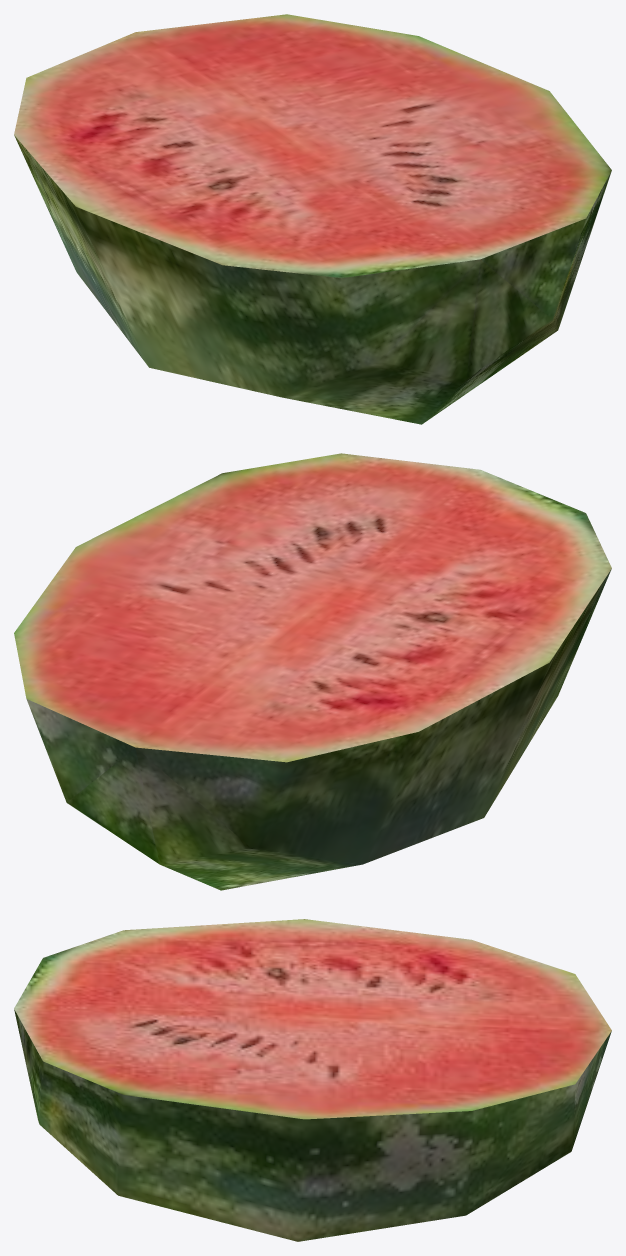
3 renders of one model, top to bottom at view 1: azimuth 30°, elevation 25°; view 2: azimuth 150°, elevation 25°; view 3: azimuth 270°, elevation 25°, orthographic. The views are drawn at different scales.
Visible parts, largest first — view 1: Watermelon_01002_Foods_0; view 2: Watermelon_01002_Foods_0; view 3: Watermelon_01002_Foods_0.
Part boxes in pixels (bbox=[...]): Watermelon_01002_Foods_0: bbox=[14, 14, 611, 424]; Watermelon_01002_Foods_0: bbox=[14, 453, 611, 890]; Watermelon_01002_Foods_0: bbox=[14, 919, 611, 1241].
Size of the model in its own units: 0.3786 by 0.1985 by 0.4775.
Materials: 1 (1 with a texture image).
